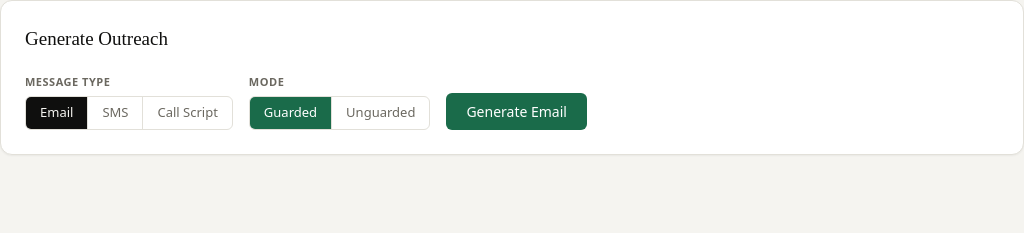
it: GeneratePanel — error handling › shows the server error message from an Axios error
The width and height of the screenshot is (1024, 233).
Step 1. Click the button "Generate Email" → (517, 111), box [446,92,587,130]
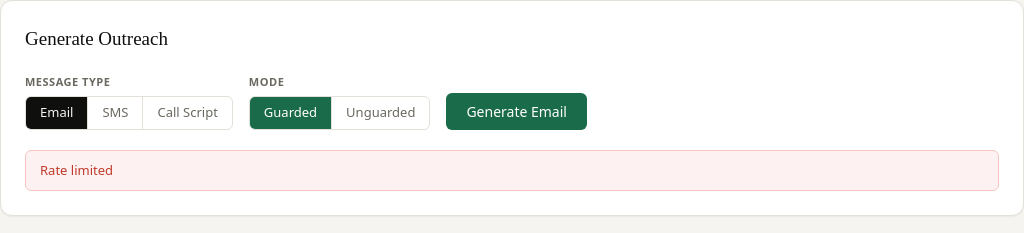
Result: the text "Rate limited" is shown at [25,150,999,191]
